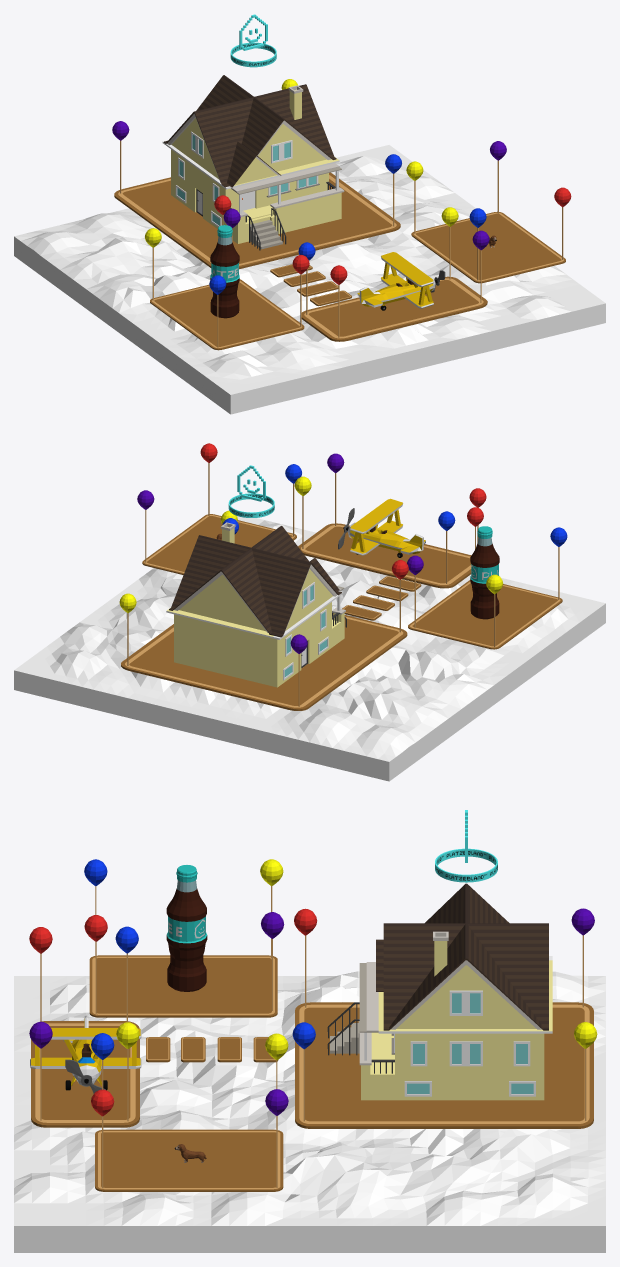
The picture shows the model from 3 angles, top to bottom: view 1: azimuth 30°, elevation 25°; view 2: azimuth 150°, elevation 25°; view 3: azimuth 270°, elevation 25°; orthographic projection. The views are drawn at different scales.
Visible parts, largest first — view 1: Cube.013, Cube.1555, VEHICLES_AIRPLANE, OBJRANDOM_PLATZEECOLA, TYPE_PREMIUM; view 2: Cube.013, Cube.1555, VEHICLES_AIRPLANE, OBJRANDOM_PLATZEECOLA, TYPE_PREMIUM; view 3: Cube.013, Cube.1555, OBJRANDOM_PLATZEECOLA, VEHICLES_AIRPLANE, TYPE_PREMIUM.
Part boxes in pixels (x1,y1,x2,y2): Cube.013: [14, 79, 605, 414]; Cube.1555: [162, 75, 344, 250]; VEHICLES_AIRPLANE: [357, 252, 445, 310]; OBJRANDOM_PLATZEECOLA: [210, 225, 239, 318]; TYPE_PREMIUM: [230, 14, 276, 67]; Cube.013: [14, 443, 605, 781]; Cube.1555: [166, 522, 346, 687]; VEHICLES_AIRPLANE: [338, 498, 425, 557]; OBJRANDOM_PLATZEECOLA: [470, 526, 499, 619]; TYPE_PREMIUM: [228, 465, 274, 517]; Cube.013: [14, 859, 605, 1252]; Cube.1555: [327, 883, 552, 1100]; OBJRANDOM_PLATZEECOLA: [166, 865, 207, 991]; VEHICLES_AIRPLANE: [30, 1015, 141, 1093]; TYPE_PREMIUM: [435, 810, 497, 882].
Size of the model in its own units: 4000 by 2393 by 4000.
41 materials, 3 textured.
